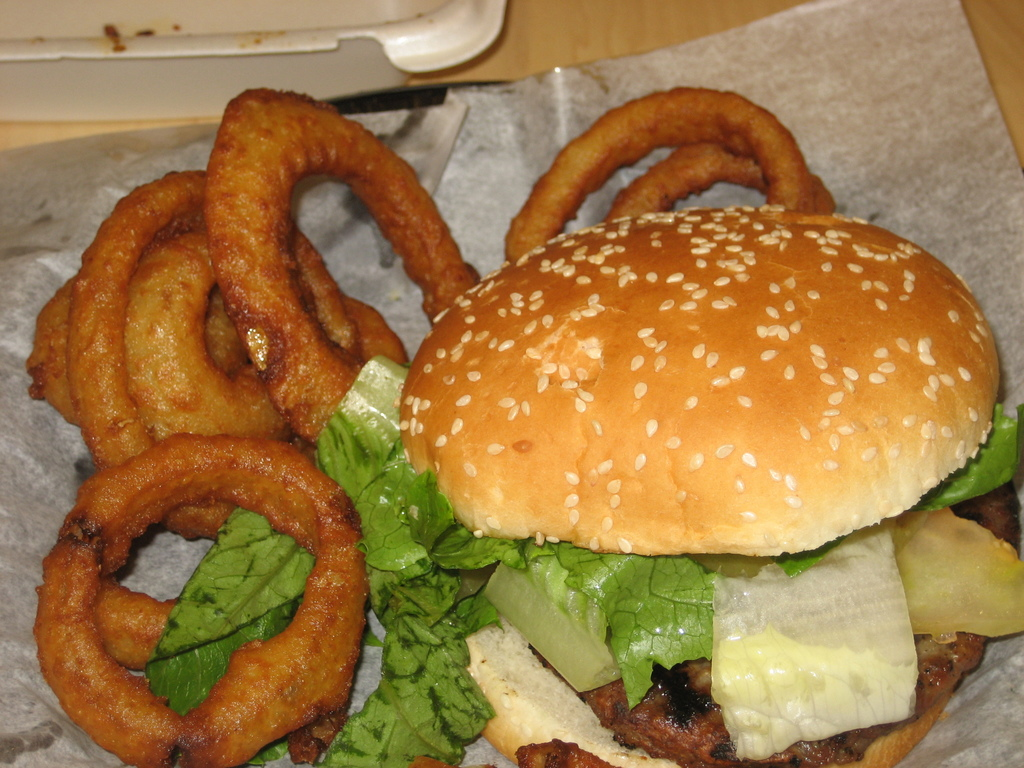Hamburger: (398, 206, 1023, 767)
